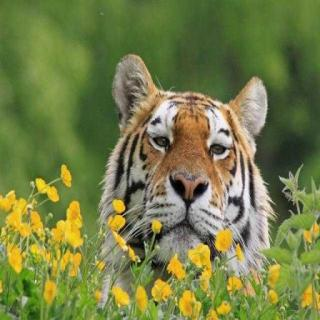Tiger: (89, 45, 284, 302)
